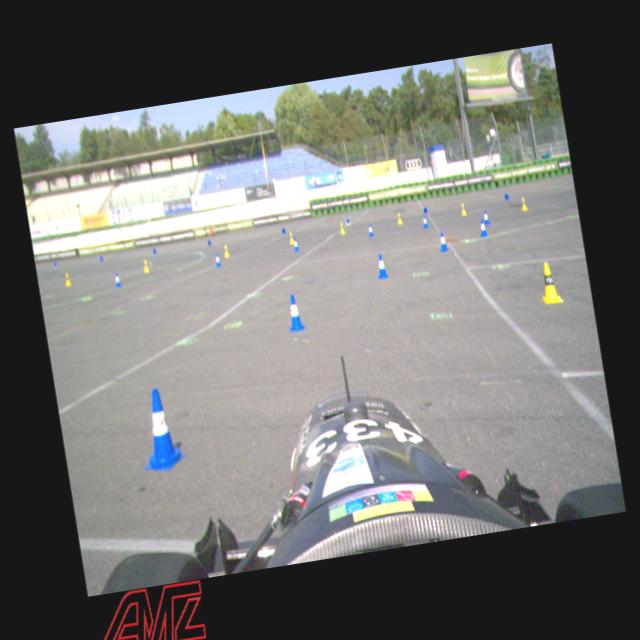blue_cone: (132, 386, 188, 474), (284, 292, 306, 332), (374, 252, 390, 280), (437, 230, 449, 253), (478, 218, 488, 238), (482, 208, 491, 226), (114, 272, 122, 288), (292, 236, 300, 252), (214, 252, 222, 268), (366, 223, 374, 238), (422, 215, 429, 229)
yellow_cone: (536, 259, 564, 305), (519, 196, 529, 212), (63, 272, 73, 288), (142, 258, 151, 274), (222, 244, 230, 258), (460, 202, 468, 216), (396, 212, 403, 226), (288, 231, 295, 245), (339, 222, 346, 235)
